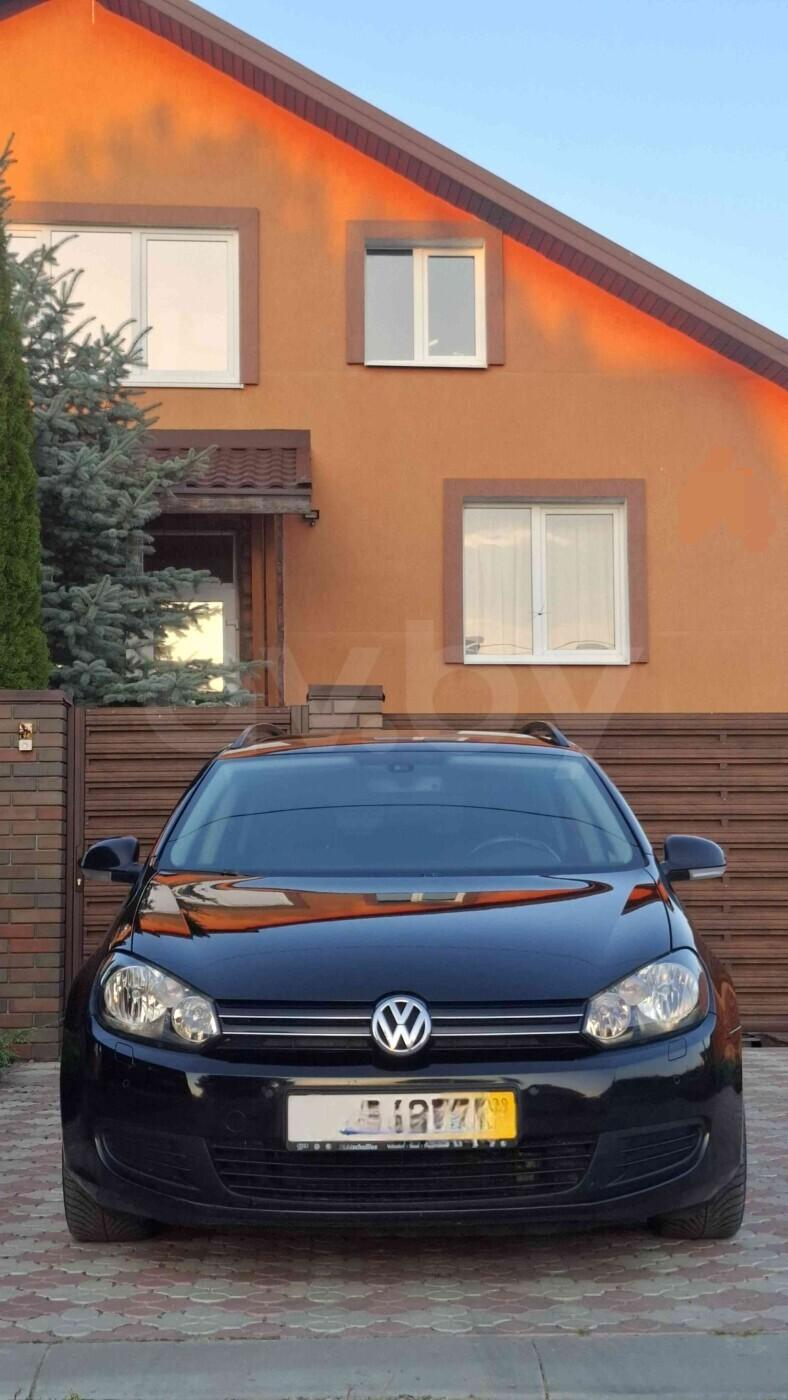Golf_2008-2013: (65, 706, 761, 1258)
